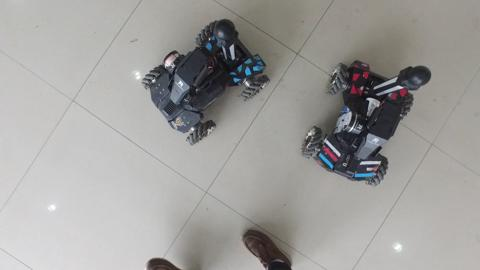chariot: (140, 14, 275, 152), (300, 56, 434, 193)
